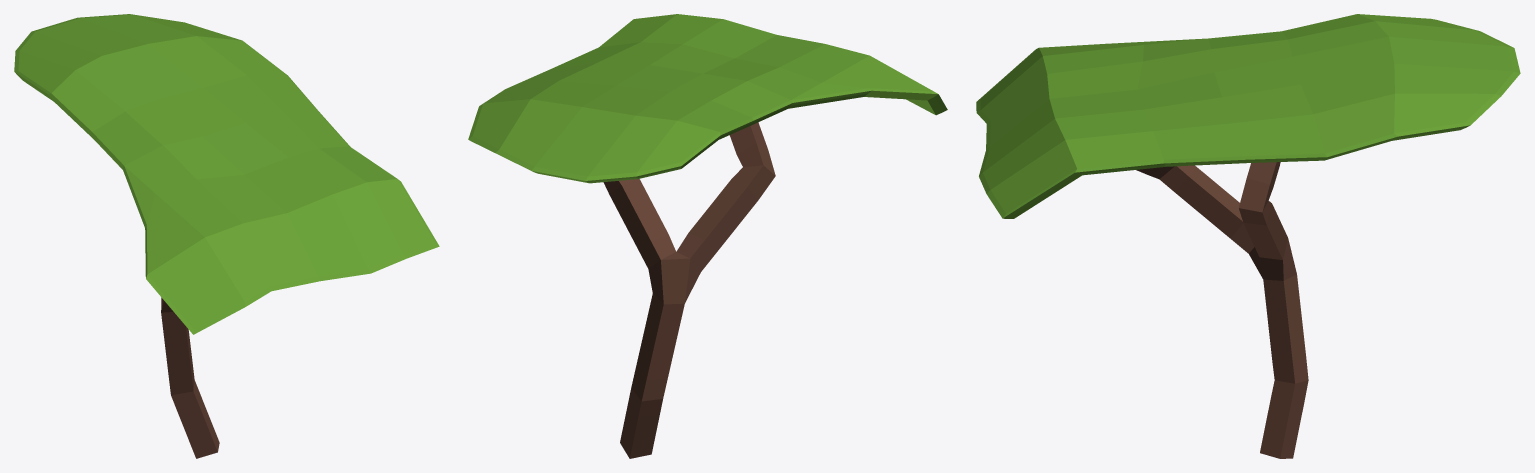
The model's file is Level 4 tree 3.glb.
3 renders of one model, left to right at view 1: azimuth 30°, elevation 25°; view 2: azimuth 150°, elevation 25°; view 3: azimuth 270°, elevation 25°, orthographic. The views are drawn at different scales.
Parts seen in each view (by area): view 1: Plane.003; view 2: Plane.003; view 3: Plane.003.
Boxes of the visible parts, left/top/right/bottom form: Plane.003: left=14, top=14, right=439, bottom=458; Plane.003: left=468, top=14, right=947, bottom=458; Plane.003: left=976, top=14, right=1520, bottom=458.
Bounding box in the file's own units: 6.97 × 8.88 × 11.08.
